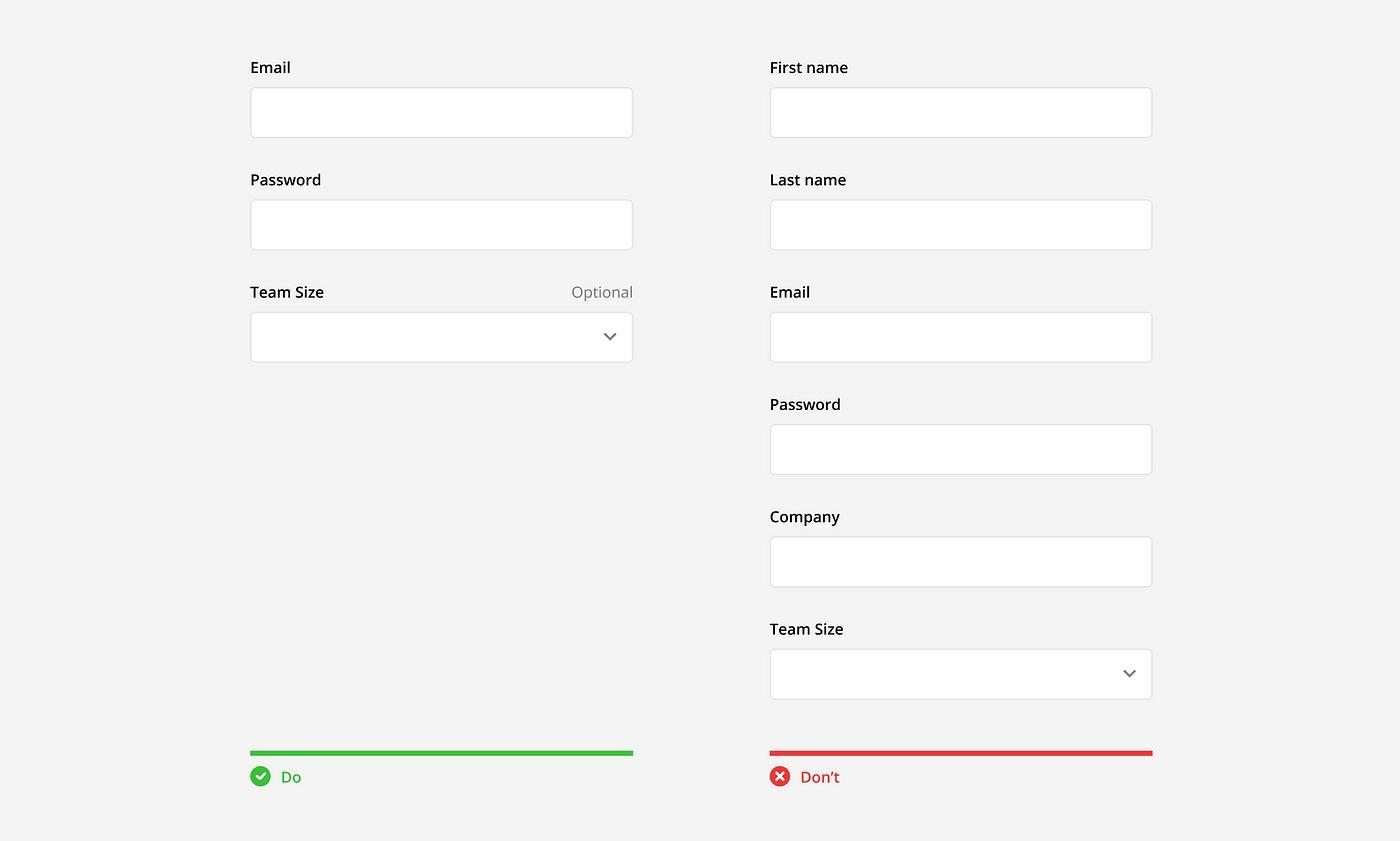dropdown: (767, 646, 1158, 706), (248, 309, 636, 368)
input: (766, 84, 1157, 144), (769, 422, 1156, 481), (768, 196, 1155, 255), (248, 197, 639, 255), (766, 533, 1156, 590), (246, 86, 639, 142), (769, 312, 1157, 368)
label: (767, 165, 852, 191), (765, 59, 853, 81), (249, 281, 330, 302), (773, 620, 850, 640), (766, 398, 845, 416), (767, 510, 845, 528), (249, 172, 324, 190), (248, 58, 292, 76), (767, 285, 814, 301)
